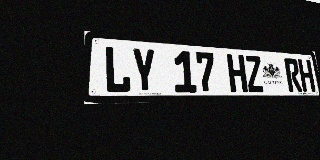1: (173, 50, 197, 93)
7: (194, 52, 217, 93)
H: (227, 54, 248, 92), (298, 59, 316, 92)
L: (104, 45, 131, 93)
R: (284, 58, 303, 92)
Y: (131, 47, 157, 93)
Z: (244, 55, 265, 92)
